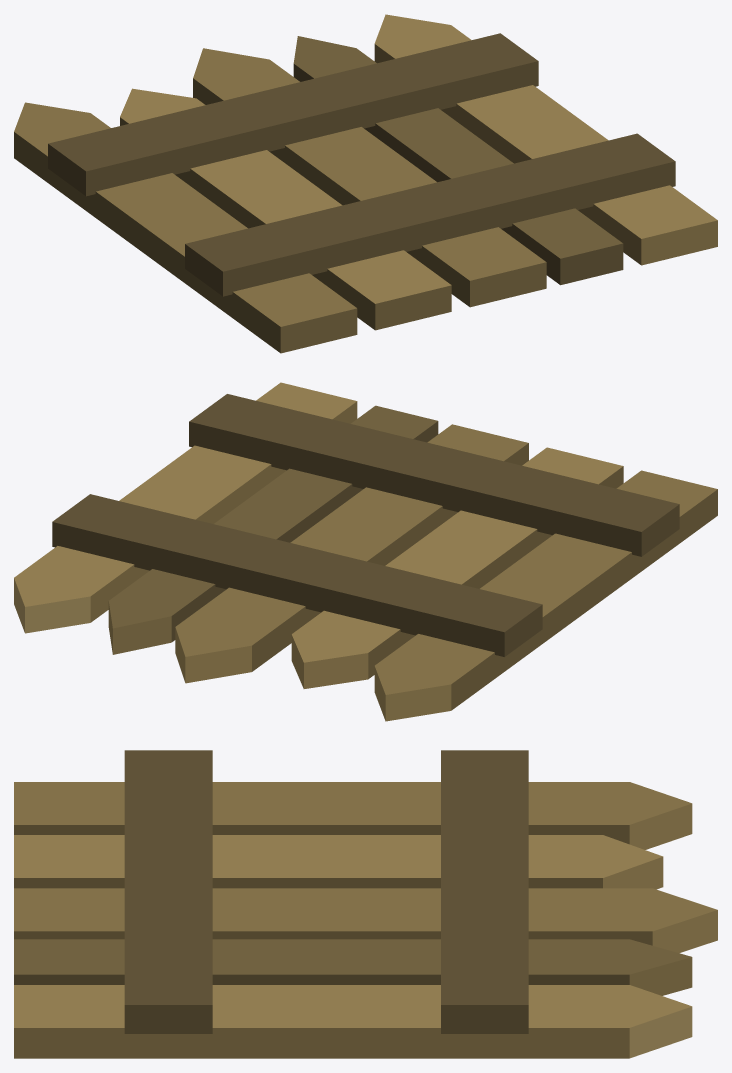
Rendered from EnvFence.fbx.
3 renders of one model, top to bottom at view 1: azimuth 30°, elevation 25°; view 2: azimuth 150°, elevation 25°; view 3: azimuth 270°, elevation 25°, orthographic. The views are drawn at different scales.
Visible parts, largest first — view 1: Cube.004; view 2: Cube.004; view 3: Cube.004.
Boxes of the visible parts, x1,y1,x2,y2 form: Cube.004: (14, 14, 717, 353); Cube.004: (14, 382, 717, 721); Cube.004: (14, 750, 717, 1058).
Size of the model in its own units: 1 by 0.1035 by 1.17.
